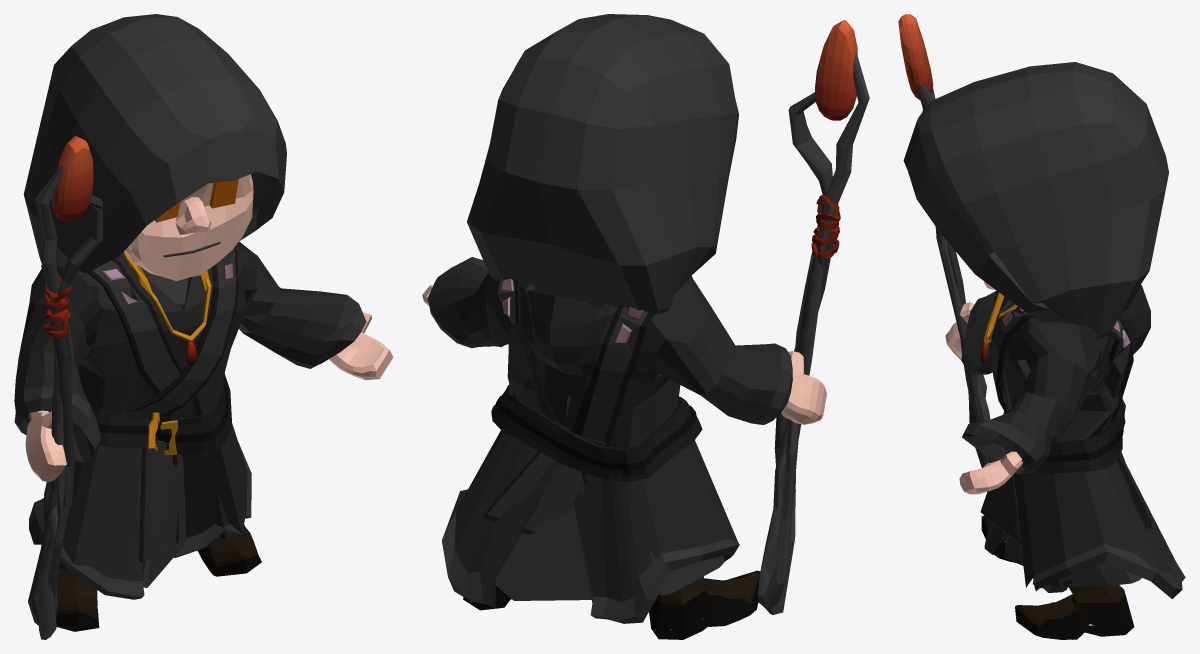
Rendered from Dark_Mage_Pose.fbx.
3 renders of one model, left to right at view 1: azimuth 30°, elevation 25°; view 2: azimuth 150°, elevation 25°; view 3: azimuth 270°, elevation 25°, orthographic. The views are drawn at different scales.
Parts seen in each view (by area): view 1: Cube.002; view 2: Cube.002; view 3: Cube.002.
Part boxes in pixels (x1,y1,x2,y2): Cube.002: (14,14,393,639); Cube.002: (422,14,869,639); Cube.002: (898,14,1185,639).
Bounding box in the file's own units: 286 × 403 × 197.
